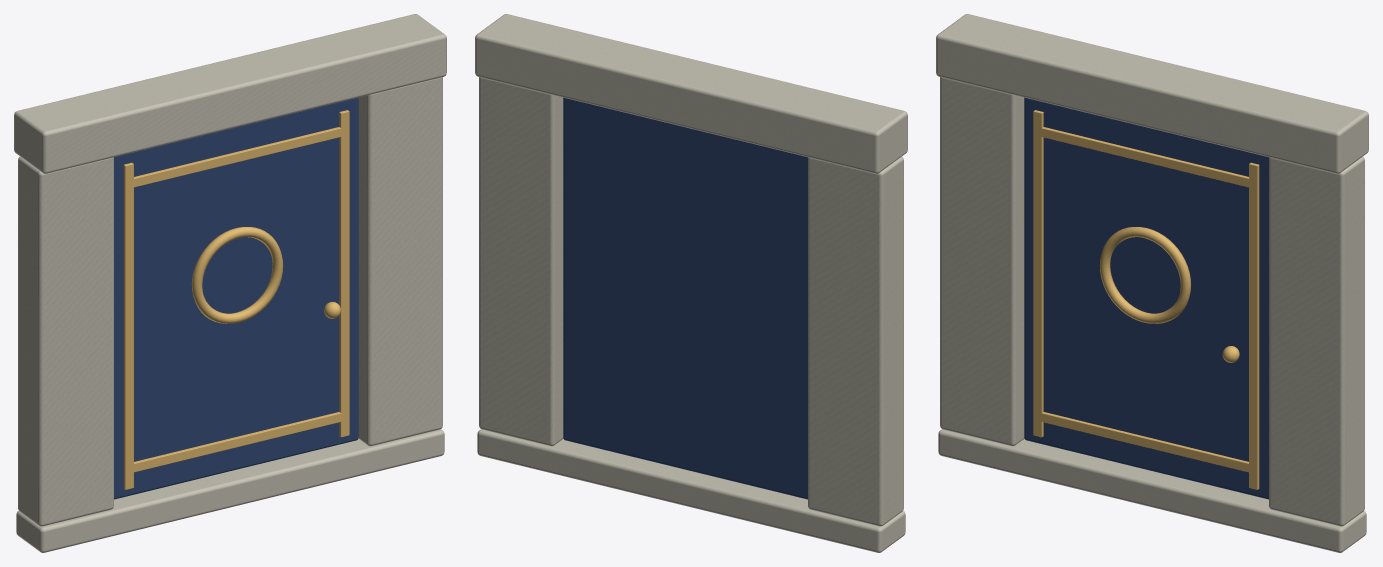
The model's file is arcane-academy-and-spell-trials-entrance-doorway-bbc7f050__28274.glb.
3 renders of one model, left to right at view 1: azimuth 30°, elevation 25°; view 2: azimuth 150°, elevation 25°; view 3: azimuth 330°, elevation 25°, orthographic.
Parts seen in each view (by area): view 1: entrance-doorway, door (×2); view 2: entrance-doorway, door; view 3: entrance-doorway, door (×2).
Part boxes in pixels (left/top/right/bottom): entrance-doorway: left=14, top=14, right=446, bottom=552; door (×2): left=114, top=97, right=358, bottom=499; entrance-doorway: left=475, top=14, right=907, bottom=552; door: left=563, top=97, right=807, bottom=499; entrance-doorway: left=936, top=14, right=1368, bottom=552; door (×2): left=1024, top=97, right=1268, bottom=499.
Bounding box in the file's own units: 3 × 3 × 0.4049.
3 materials, 1 textured.
